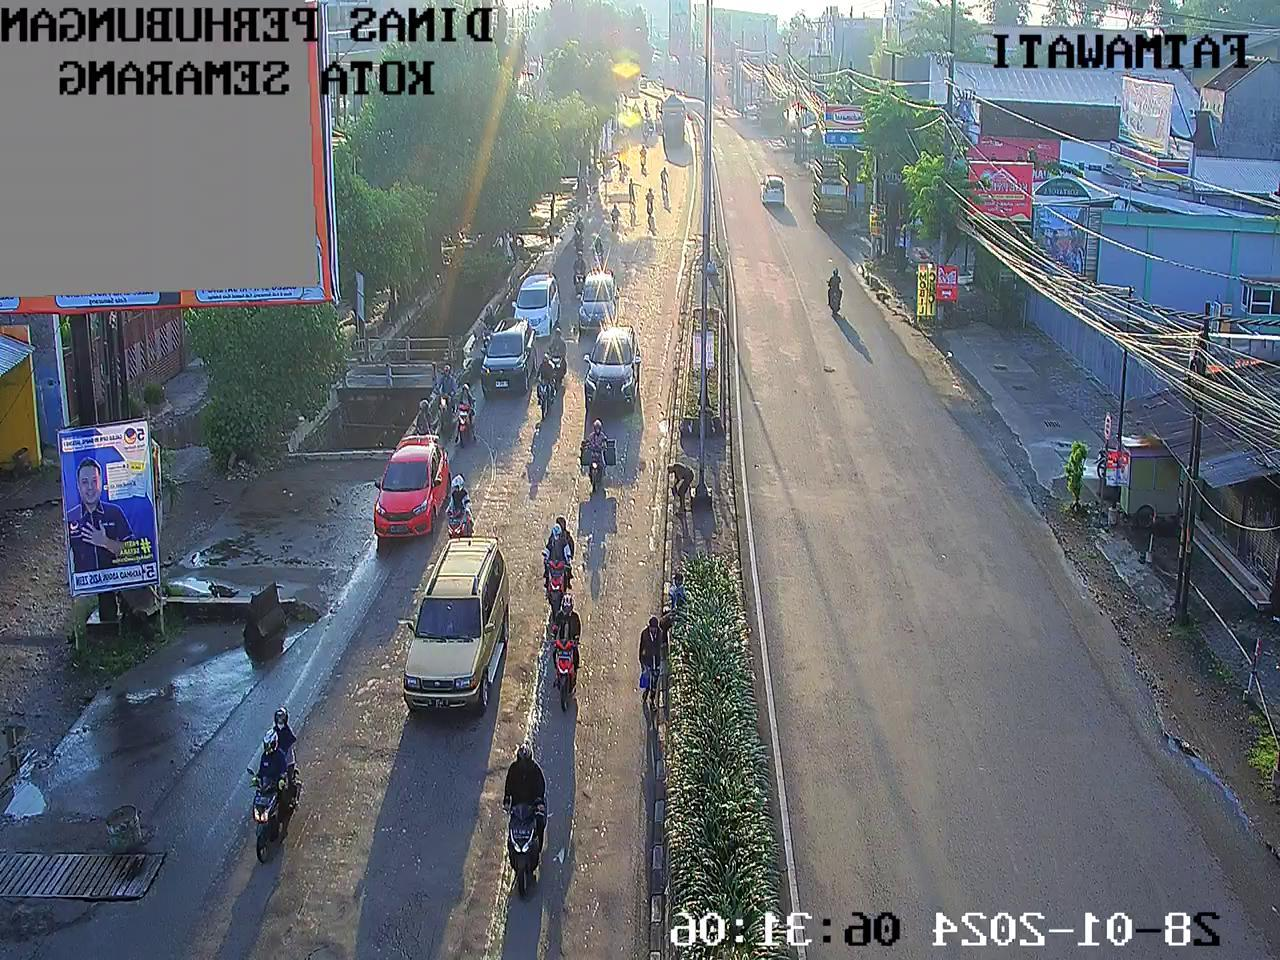car: (412, 537, 503, 715), (378, 433, 443, 538), (486, 323, 534, 400), (588, 329, 635, 407), (517, 270, 558, 335), (577, 280, 619, 335)
motorcycle: (499, 736, 558, 921), (246, 705, 301, 875), (548, 596, 588, 722), (538, 510, 579, 616), (582, 411, 613, 504), (442, 468, 472, 558), (456, 370, 477, 447), (537, 355, 560, 419), (550, 324, 569, 391), (441, 362, 459, 431), (412, 394, 433, 445), (571, 247, 588, 301), (584, 185, 602, 223), (481, 305, 495, 350), (571, 212, 586, 254), (594, 230, 606, 273), (608, 200, 621, 237), (645, 187, 655, 224), (640, 145, 648, 172), (642, 118, 649, 143), (642, 95, 650, 116), (648, 116, 655, 137), (655, 100, 661, 119), (633, 100, 640, 116)
truck: (662, 96, 686, 151)
